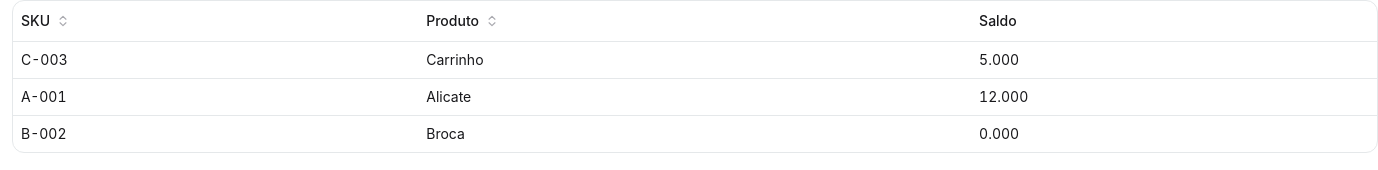
Test: DataTable › ordenação › inverte a ordem no segundo clique
Click the button "SKU": {"x": 46, "y": 21} [13, 7, 78, 35]
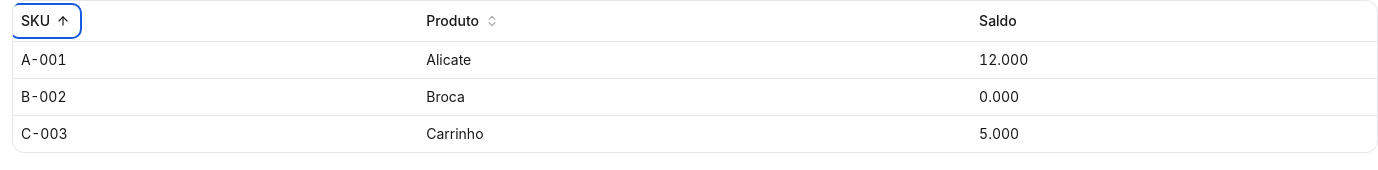
Click the button "SKU": {"x": 46, "y": 21} [13, 7, 78, 35]
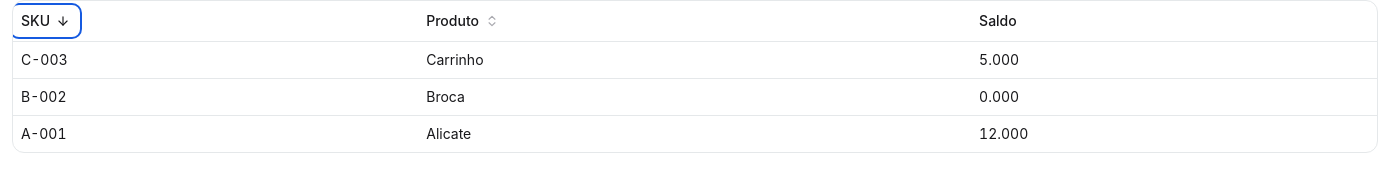
Check: the text "C-003" is shown, box [13, 42, 418, 78]
Check: the column heading "SKU" has attribute aria-sort="descending", box [13, 1, 418, 41]
